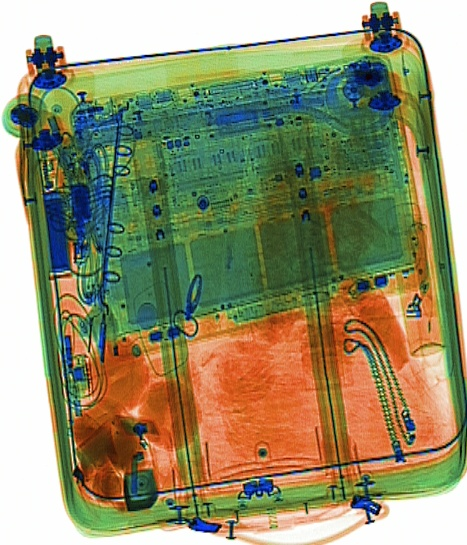pressure: (381, 201, 449, 359)
